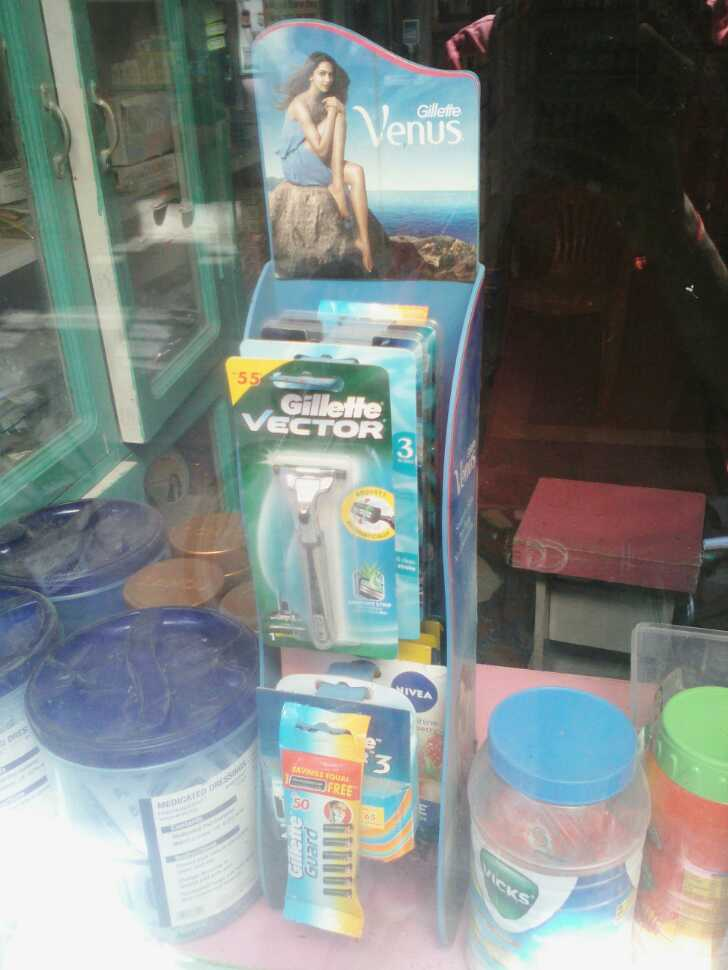gillete: (222, 354, 410, 646), (279, 709, 367, 935)
